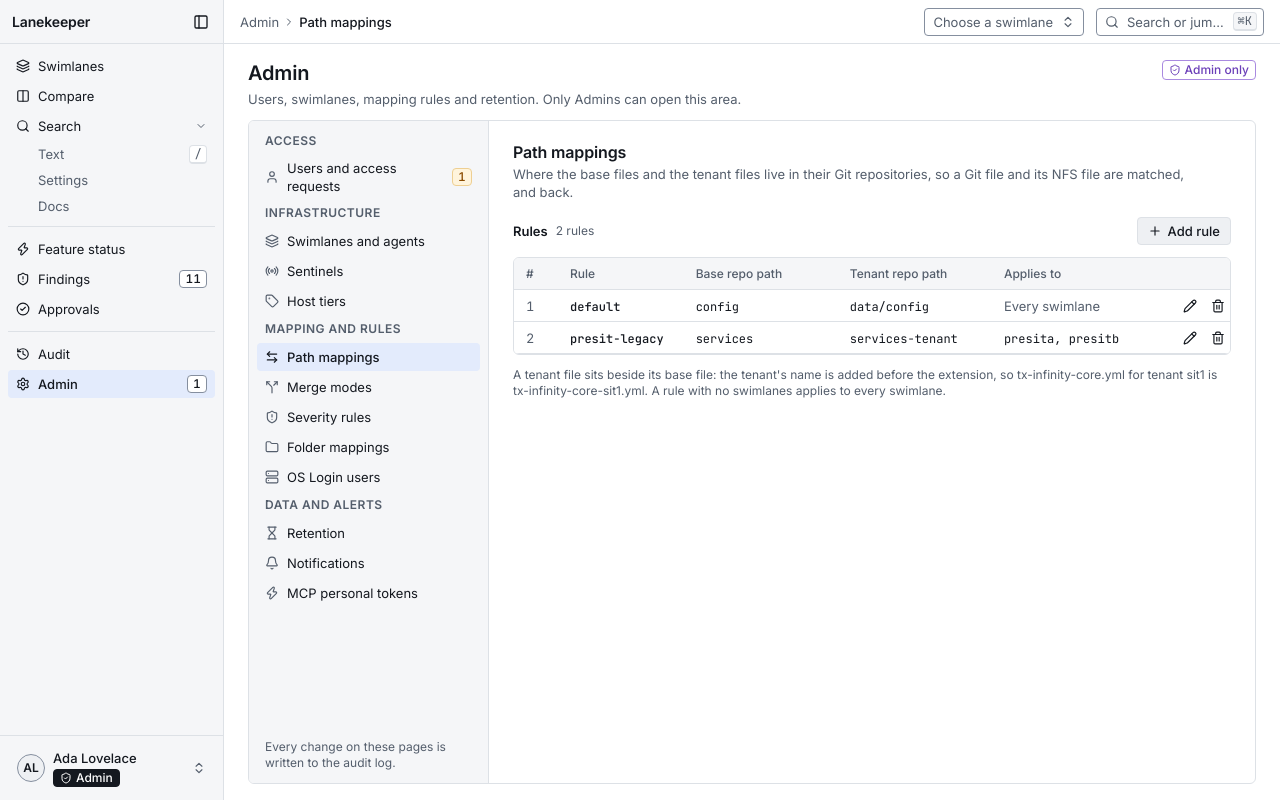
Test: adding a rule › sends the roots and the swimlanes chosen, after a dialog, and says it was saved
Expected: the heading "Admin" is shown, x1=248 y1=61 x2=309 y2=85
Click the button "Add rule".
click(1184, 231)  # box x1=1137 y1=217 x2=1231 y2=245
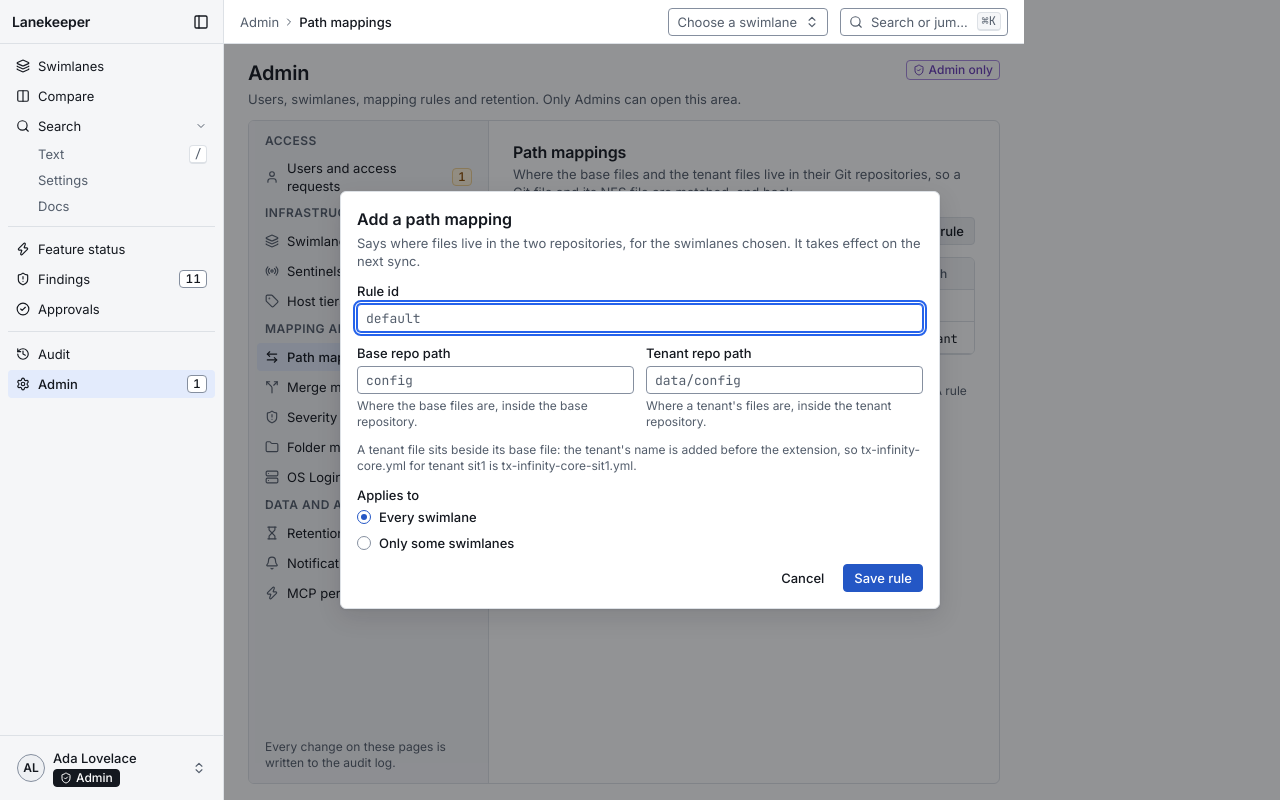
Type "legacy-docs" into the field labelled "Rule id".
click(640, 318); type("legacy-docs")  # box x1=357 y1=304 x2=923 y2=332
Type "docs/base" into the field labelled "Base repo path".
click(496, 380); type("docs/base")  # box x1=357 y1=366 x2=634 y2=394
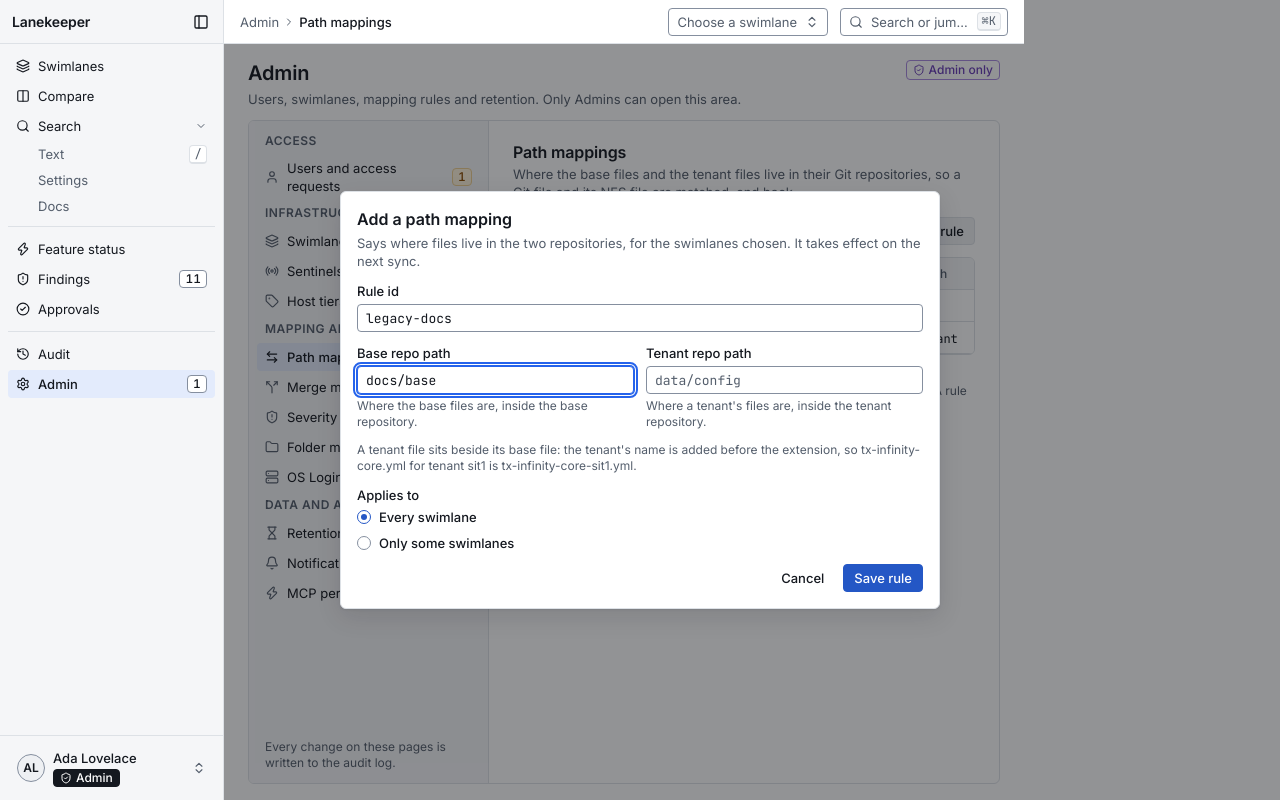
Type "docs/tenant" into the field labelled "Tenant repo path".
click(784, 380); type("docs/tenant")  # box x1=646 y1=366 x2=923 y2=394
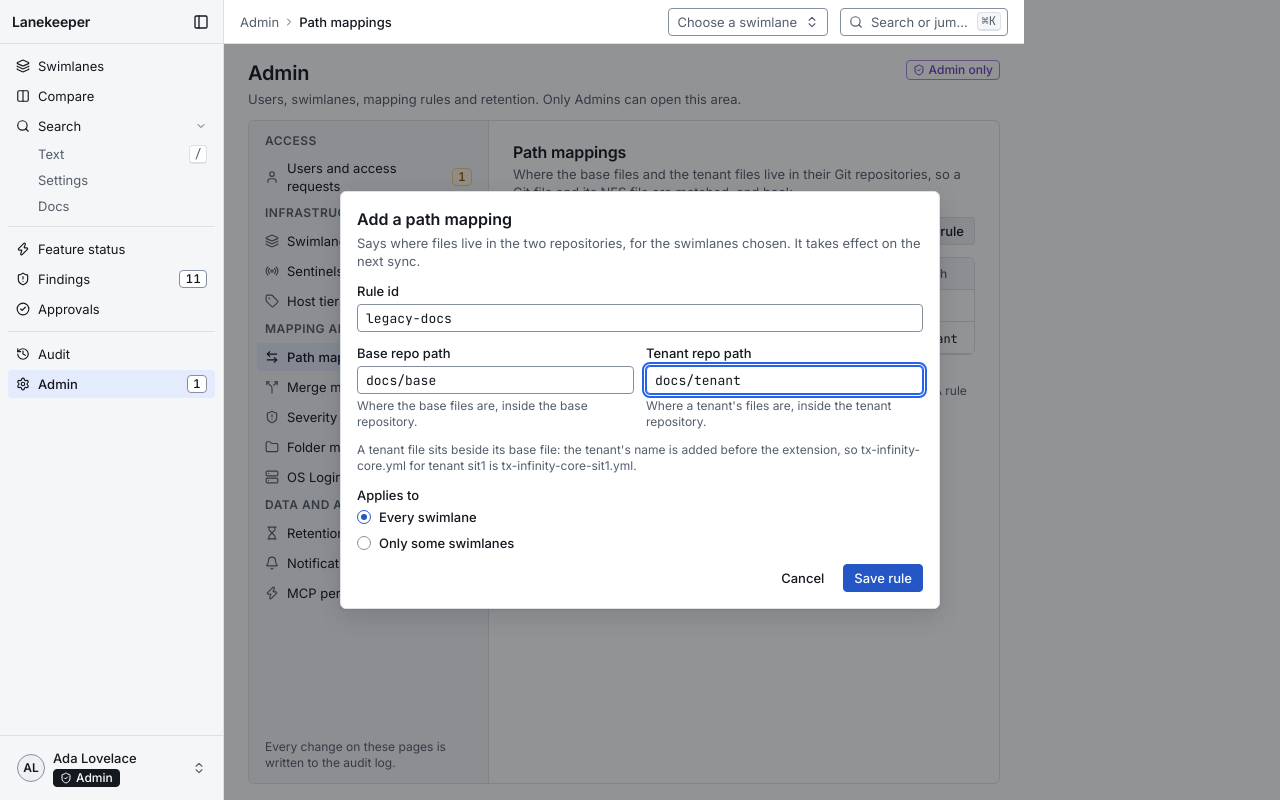
Click the radio button named "Only some swimlanes" next to "Only some swimlanes".
click(364, 543)  # box x1=357 y1=536 x2=371 y2=550
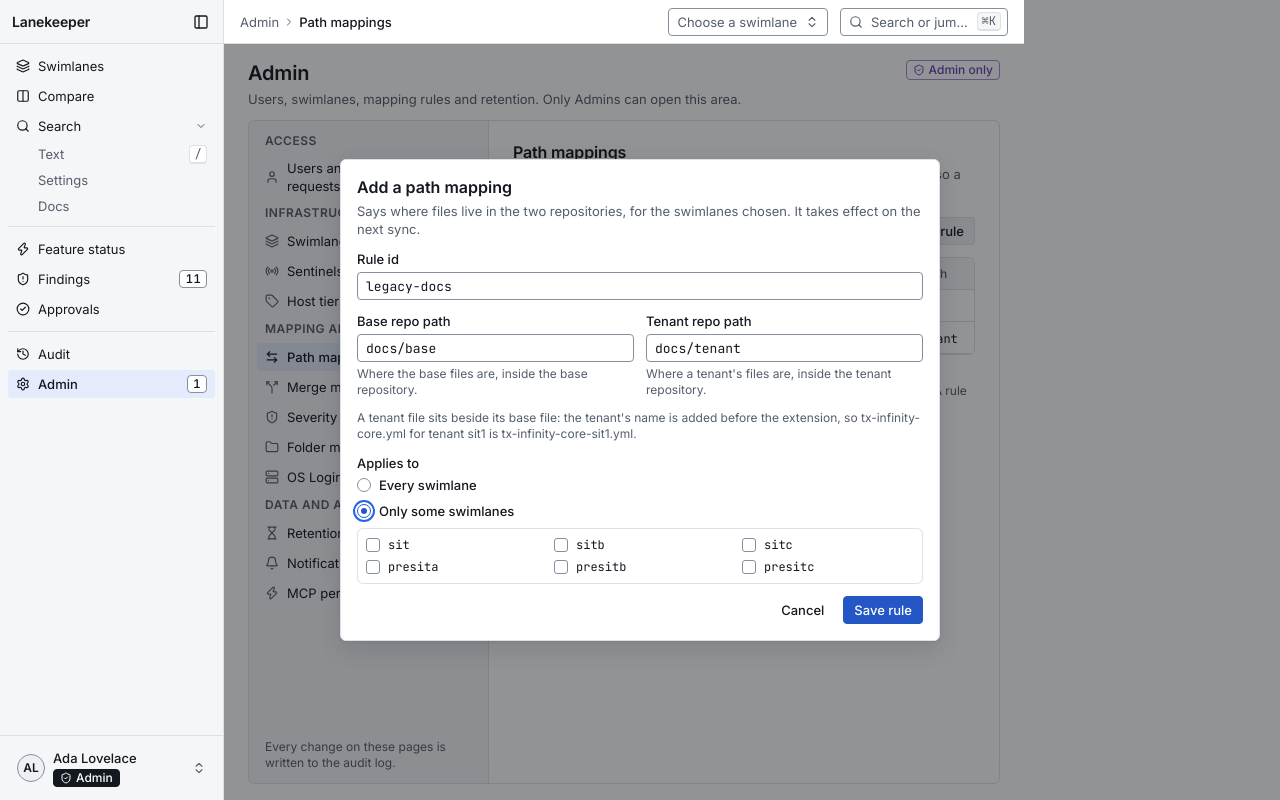
Click the checkbox named "presita" next to "presita".
click(373, 567)  # box x1=366 y1=560 x2=380 y2=574
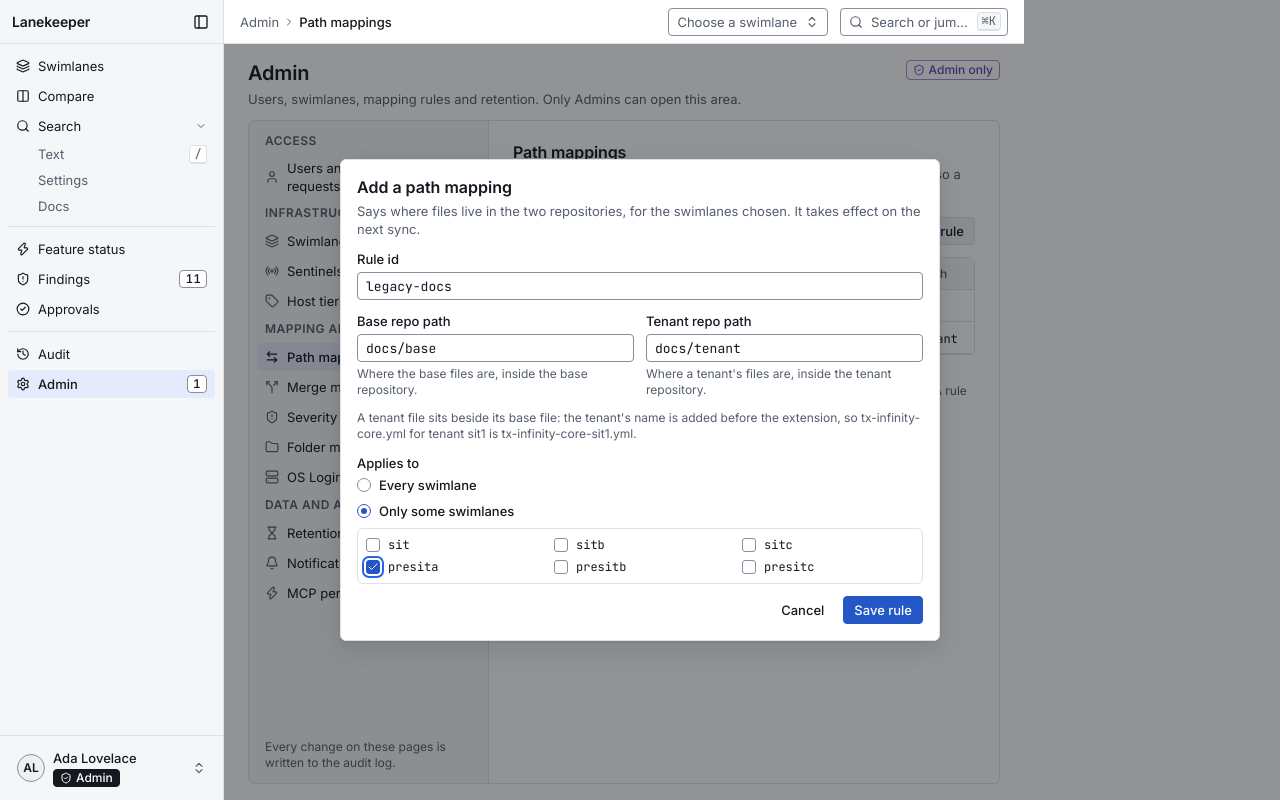
Click the button "Save rule".
click(883, 610)  # box x1=843 y1=596 x2=923 y2=624
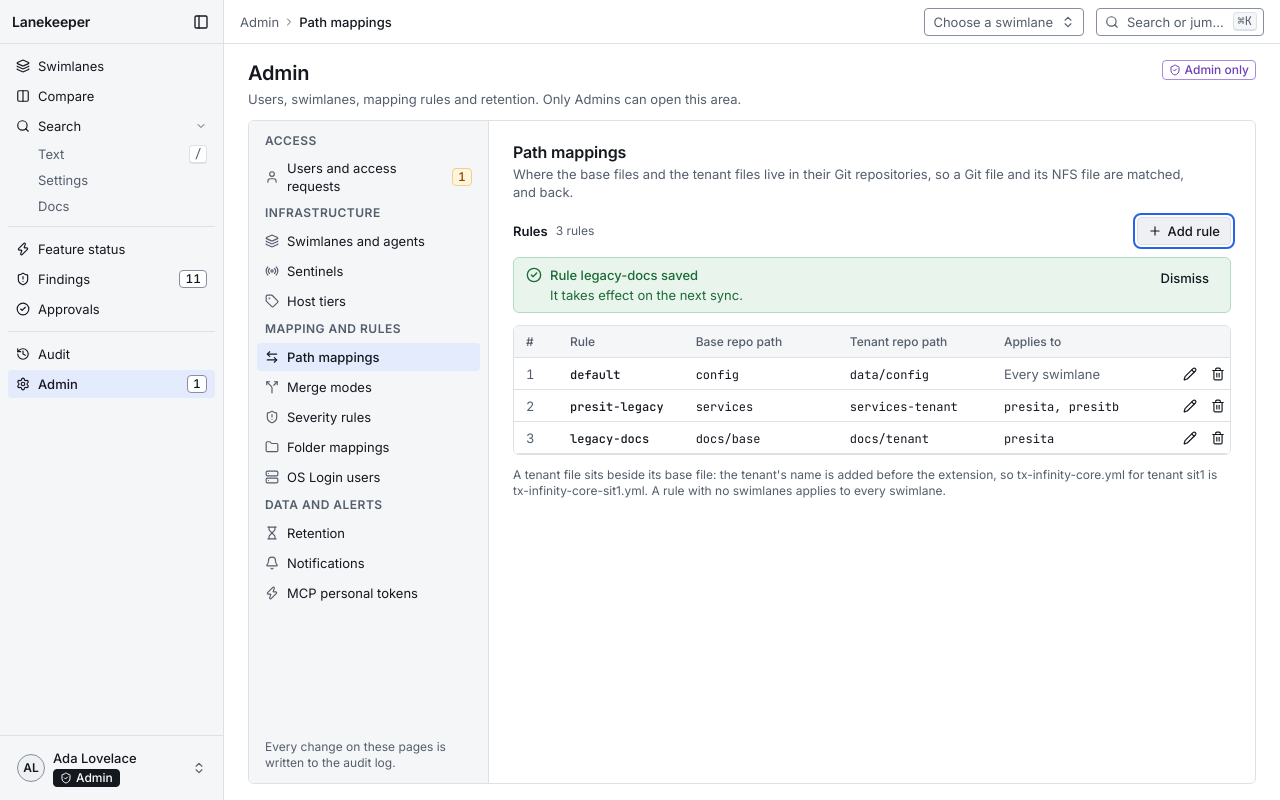
Result: the dialog is gone
Result: the text "Rule legacy-docs saved" is shown at x1=550 y1=267 x2=698 y2=283
Result: the text "legacy-docs" is shown at x1=570 y1=430 x2=649 y2=446
